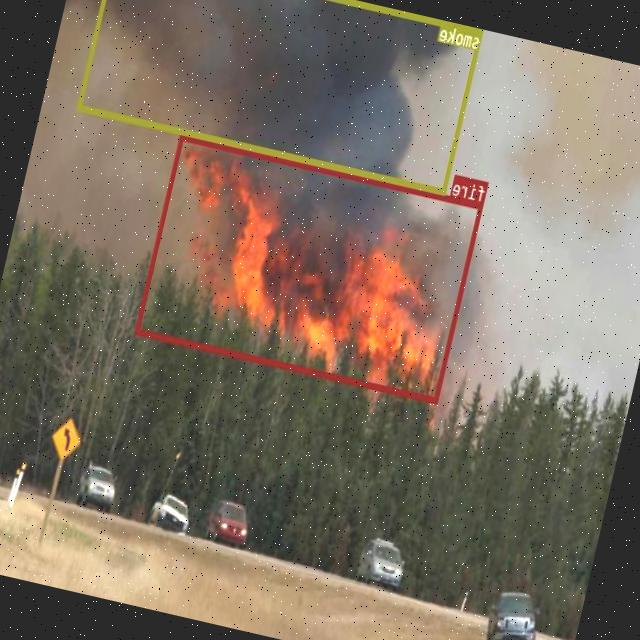fire: (135, 132, 484, 402)
smoke: (77, 0, 484, 195)
